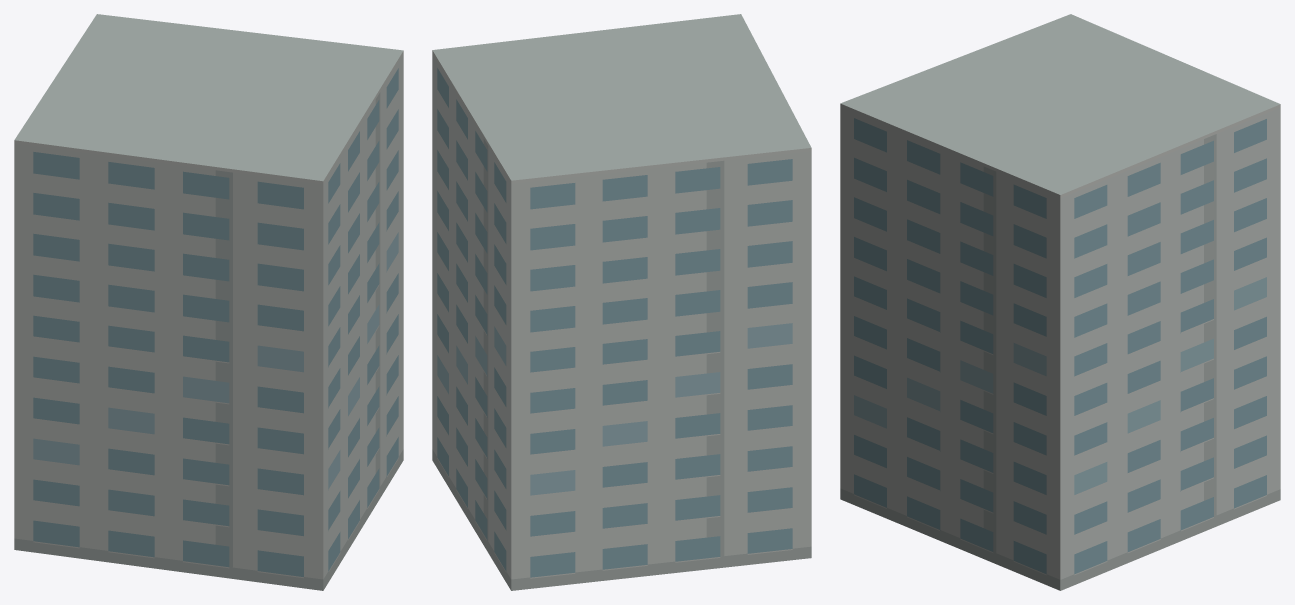
The model's file is residential-57531ba7-6d03-4f5d-922c-24cbd61de597.glb.
3 views of the same model, side by side, from view 1: azimuth 30°, elevation 25°; view 2: azimuth 150°, elevation 25°; view 3: azimuth 270°, elevation 25° (orthographic). The views are drawn at different scales.
Parts seen in each view (by area): view 1: residential-57531ba7-6d03-4f5d-922c-24cbd61de597.tmp; view 2: residential-57531ba7-6d03-4f5d-922c-24cbd61de597.tmp; view 3: residential-57531ba7-6d03-4f5d-922c-24cbd61de597.tmp.
Boxes of the visible parts, x1,y1,x2,y2 form: residential-57531ba7-6d03-4f5d-922c-24cbd61de597.tmp: (14,14,403,590); residential-57531ba7-6d03-4f5d-922c-24cbd61de597.tmp: (432,14,811,590); residential-57531ba7-6d03-4f5d-922c-24cbd61de597.tmp: (840,14,1280,590).
Bounding box in the file's own units: 29.44 × 30 × 30.27.
